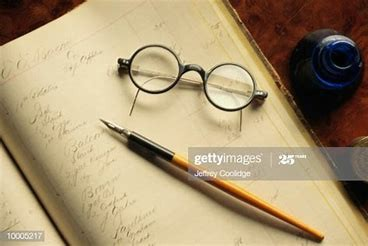pen: (99, 118, 329, 242)
